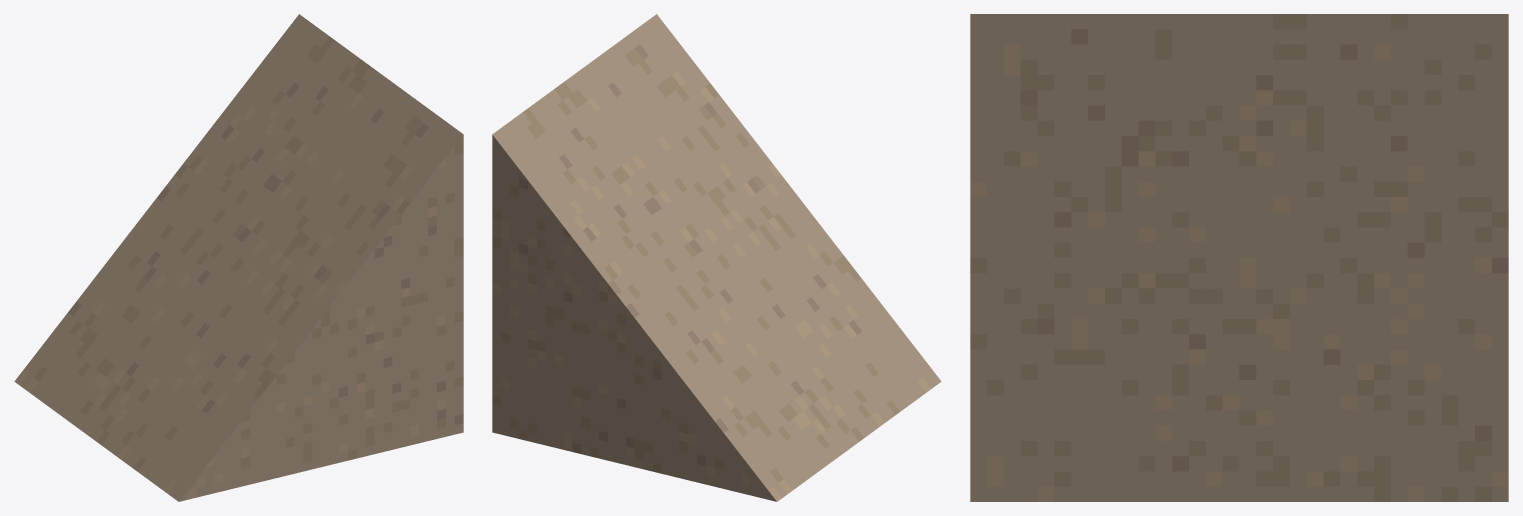
The model's file is wood.ramp.glb.
3 views of the same model, side by side, from view 1: azimuth 30°, elevation 25°; view 2: azimuth 150°, elevation 25°; view 3: azimuth 270°, elevation 25° (orthographic). The views are drawn at different scales.
Size of the model in its own units: 1 by 1 by 1.
